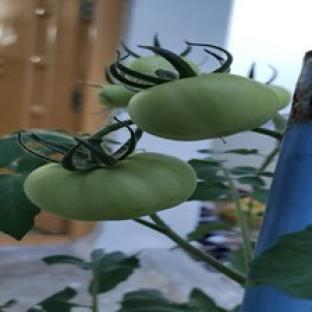Tomato: (24, 152, 196, 220), (129, 73, 279, 140), (127, 56, 178, 77), (129, 56, 176, 76), (98, 84, 135, 108), (269, 85, 291, 110)
